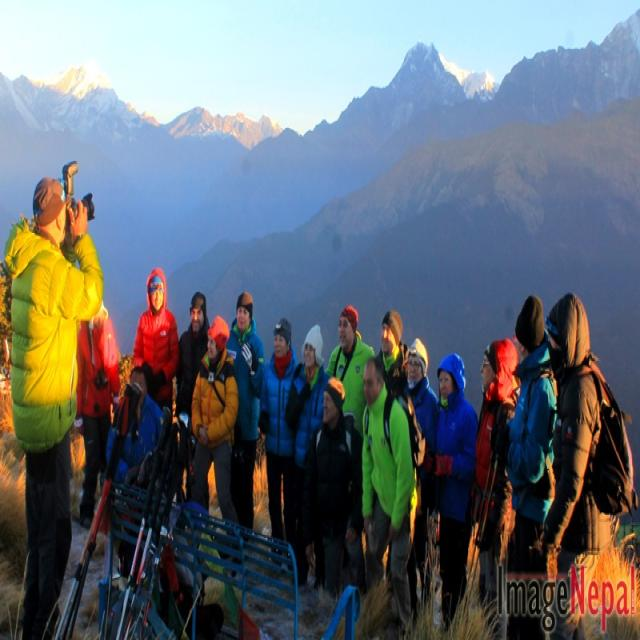body: (1, 174, 105, 639), (538, 290, 618, 640), (488, 292, 558, 578), (359, 351, 426, 638), (469, 333, 521, 640), (426, 351, 479, 634), (283, 322, 331, 594), (190, 312, 242, 542), (72, 306, 122, 534), (310, 376, 360, 602), (257, 315, 300, 572), (225, 289, 269, 531), (404, 335, 439, 624), (102, 361, 166, 492), (176, 288, 212, 503), (323, 302, 379, 440), (130, 266, 180, 417), (375, 308, 411, 401)
